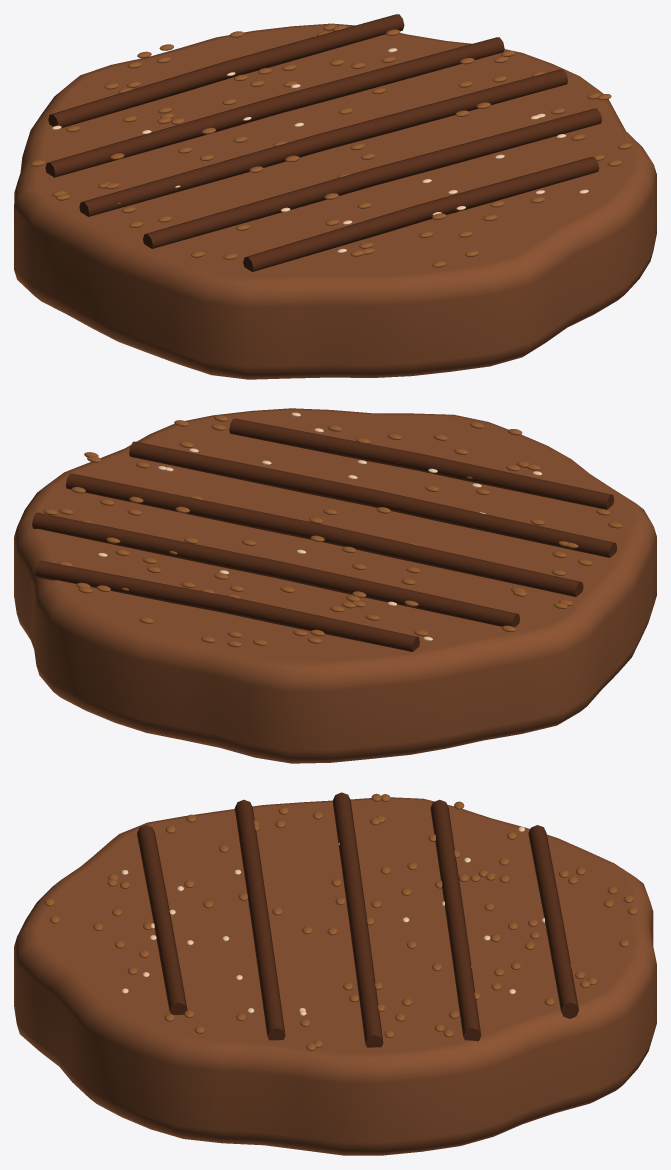
File: item_patty.glb
3 views of the same model, one above another, from view 1: azimuth 30°, elevation 25°; view 2: azimuth 150°, elevation 25°; view 3: azimuth 270°, elevation 25° (orthographic).
Visible parts, largest first — view 1: 肉厚パティ; view 2: 肉厚パティ; view 3: 肉厚パティ.
Boxes of the visible parts, x1=… form: 肉厚パティ: x1=14, y1=14, x2=656, y2=379; 肉厚パティ: x1=14, y1=408, x2=656, y2=763; 肉厚パティ: x1=14, y1=792, x2=656, y2=1155.
Bounding box in the file's own units: 0.991 × 0.195 × 0.9855.
